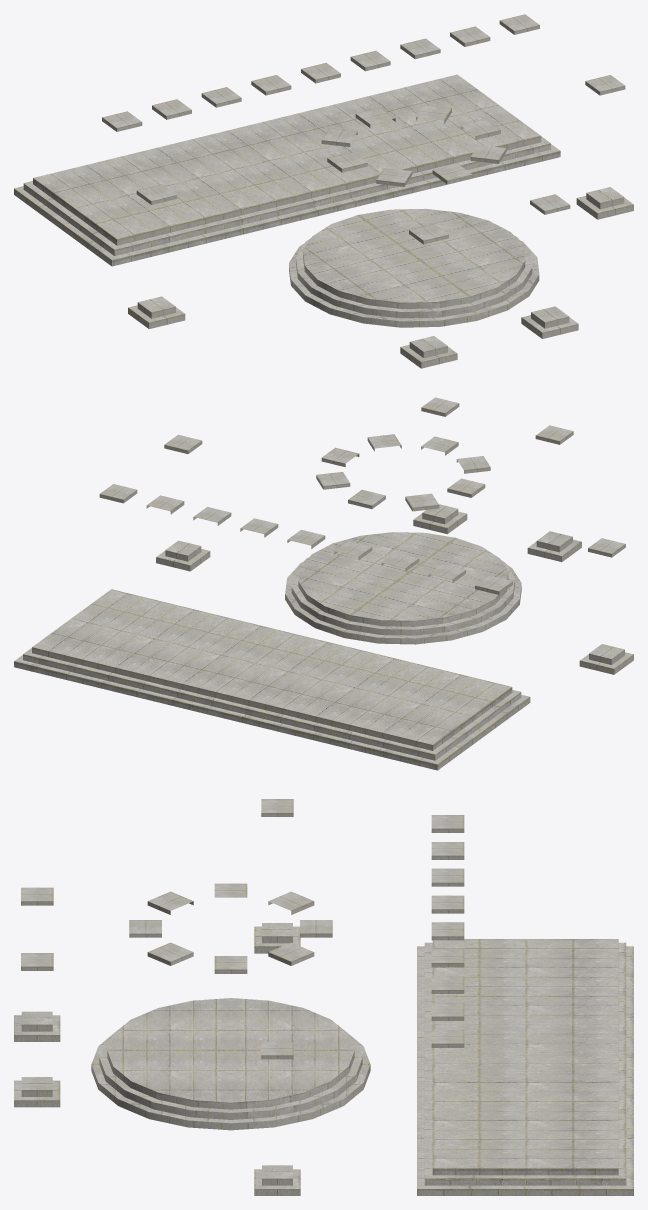
File: hele_civic_tiles_long.dae
3 renders of one model, top to bottom at view 1: azimuth 30°, elevation 25°; view 2: azimuth 150°, elevation 25°; view 3: azimuth 270°, elevation 25°, orthographic. The views are drawn at different scales.
Parts seen in each view (by area): view 1: tiles-Pivot; view 2: tiles-Pivot; view 3: tiles-Pivot.
Part boxes in pixels (x1,y1,x2,y2): tiles-Pivot: [14, 14, 633, 368]; tiles-Pivot: [14, 397, 633, 770]; tiles-Pivot: [14, 799, 633, 1195].
Bounding box in the file's own units: 28.84 × 28.84 × 7.43.
